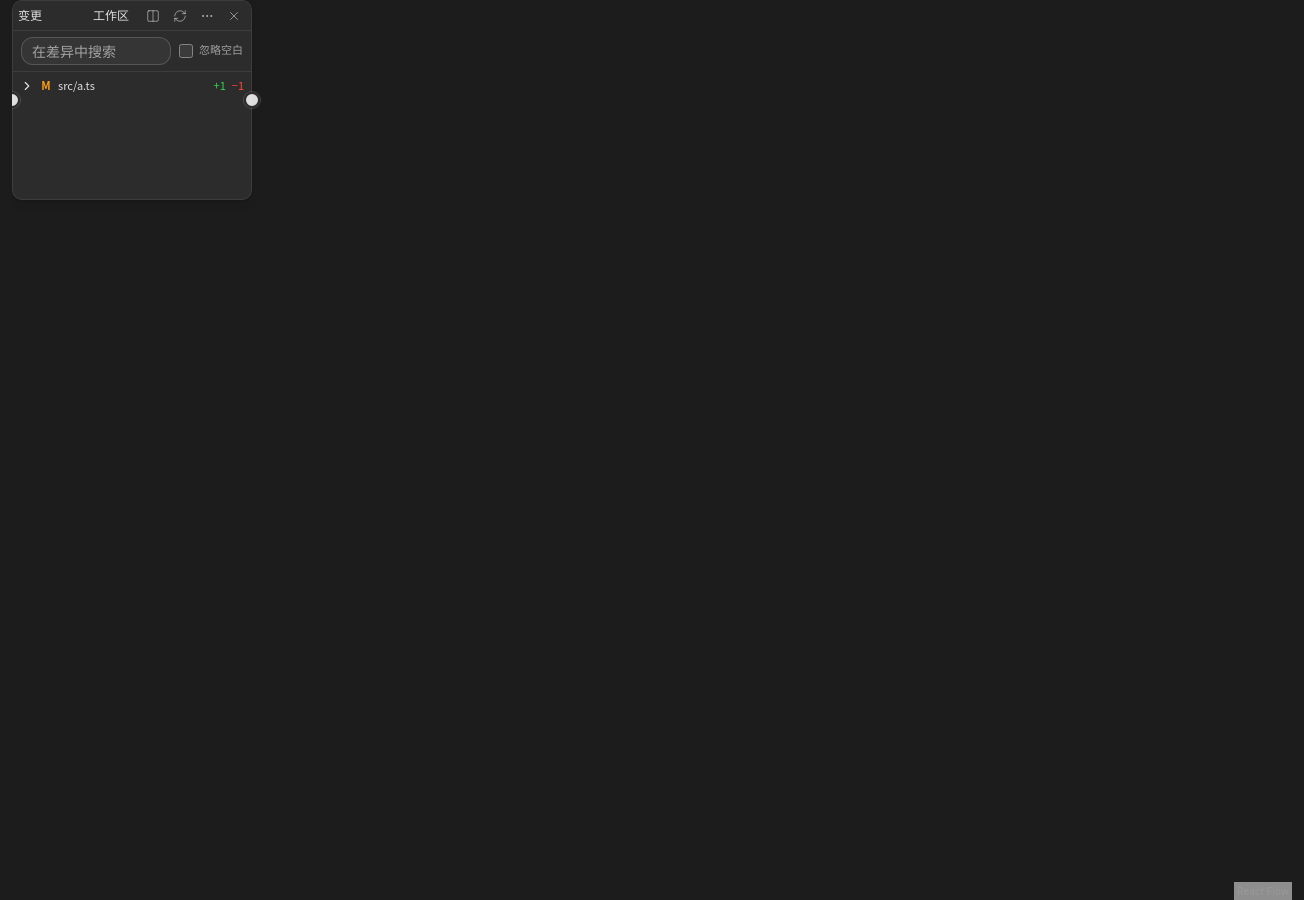
Scenario: counts search matches inside the open diff
The width and height of the screenshot is (1304, 900).
Click the button "M src/a.ts +1 −1".
click(132, 86)  # box [13,72,251,100]
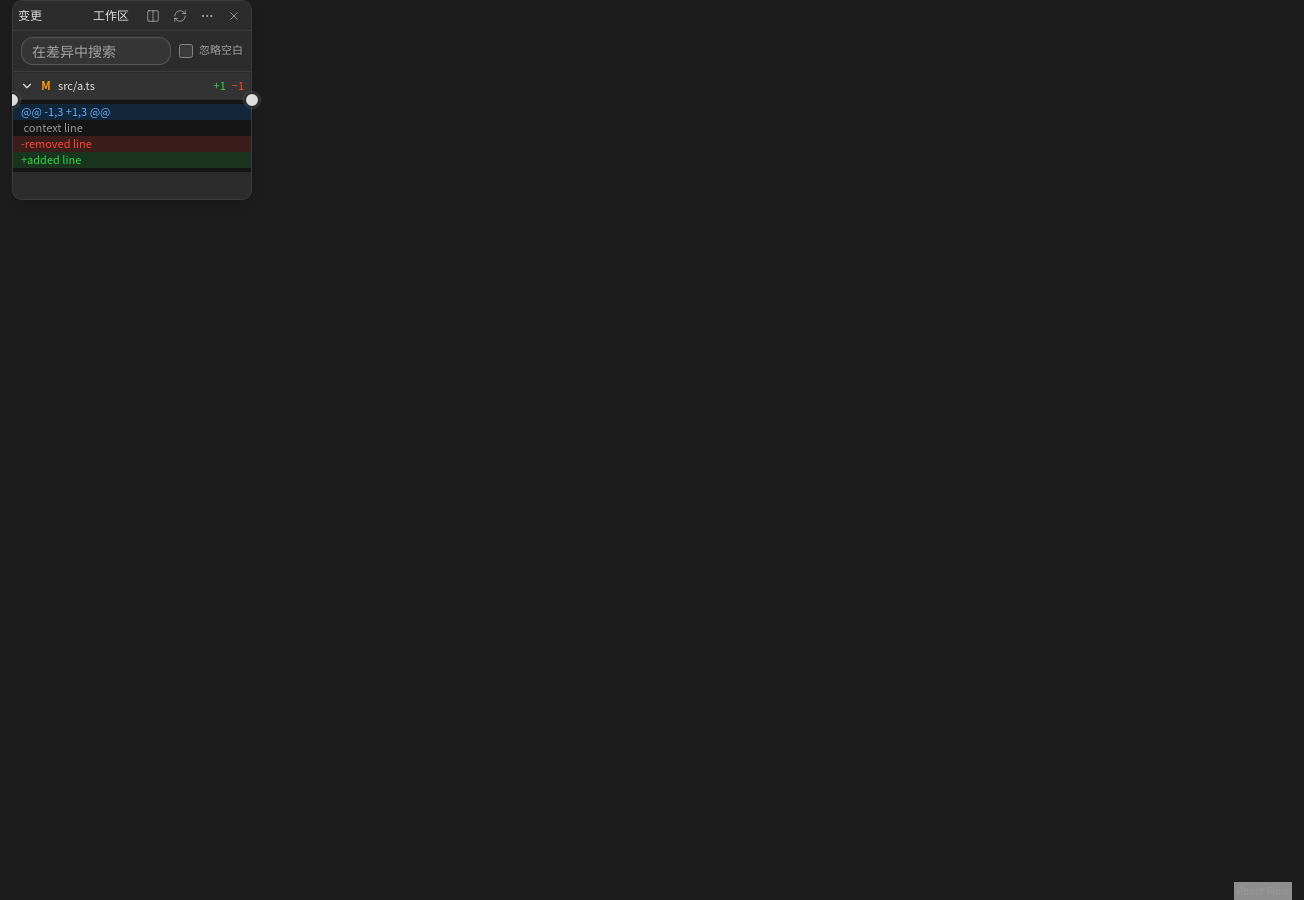
Type "removed" into the field labelled "在差异中搜索".
click(96, 51); type("removed")  # box [21,37,171,65]
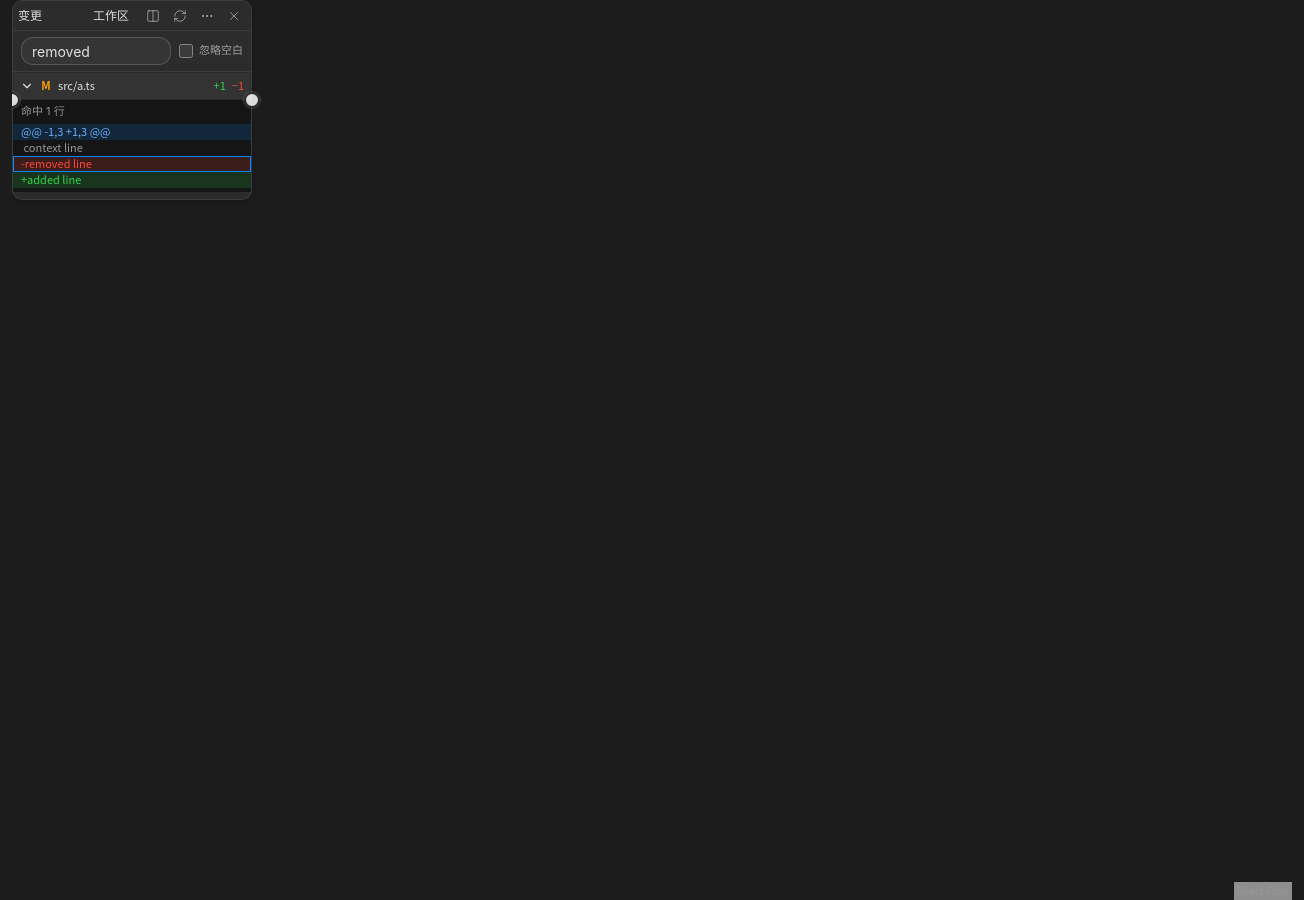
Result: the text "命中 1 行" is shown at [21,104,65,118]
